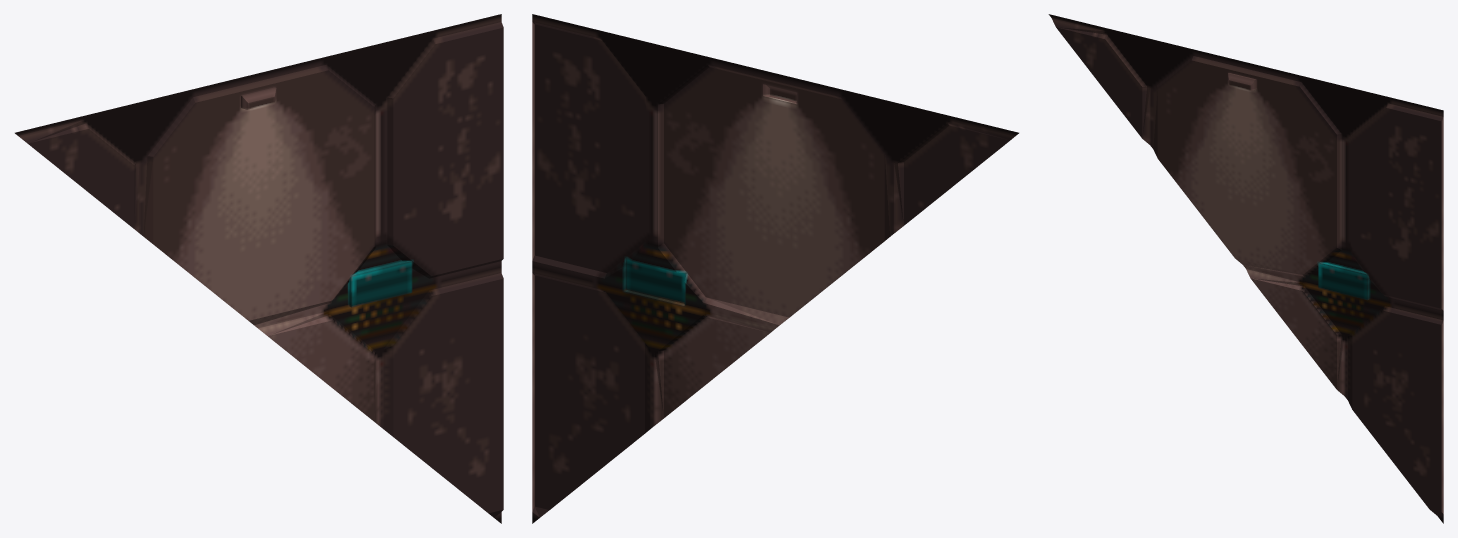
The model's file is eng1_5_slice45rh.fbx.
The picture shows the model from 3 angles, left to right: view 1: azimuth 30°, elevation 25°; view 2: azimuth 150°, elevation 25°; view 3: azimuth 330°, elevation 25°; orthographic projection. The views are drawn at different scales.
Parts seen in each view (by area): view 1: eng1_5_mesh; view 2: eng1_5_mesh; view 3: eng1_5_mesh.
Boxes of the visible parts, <box> form: eng1_5_mesh: <box>15,14,503,523</box>; eng1_5_mesh: <box>532,14,1018,523</box>; eng1_5_mesh: <box>1048,14,1443,523</box>.
Bounding box in the file's own units: 256 × 256 × 5.
